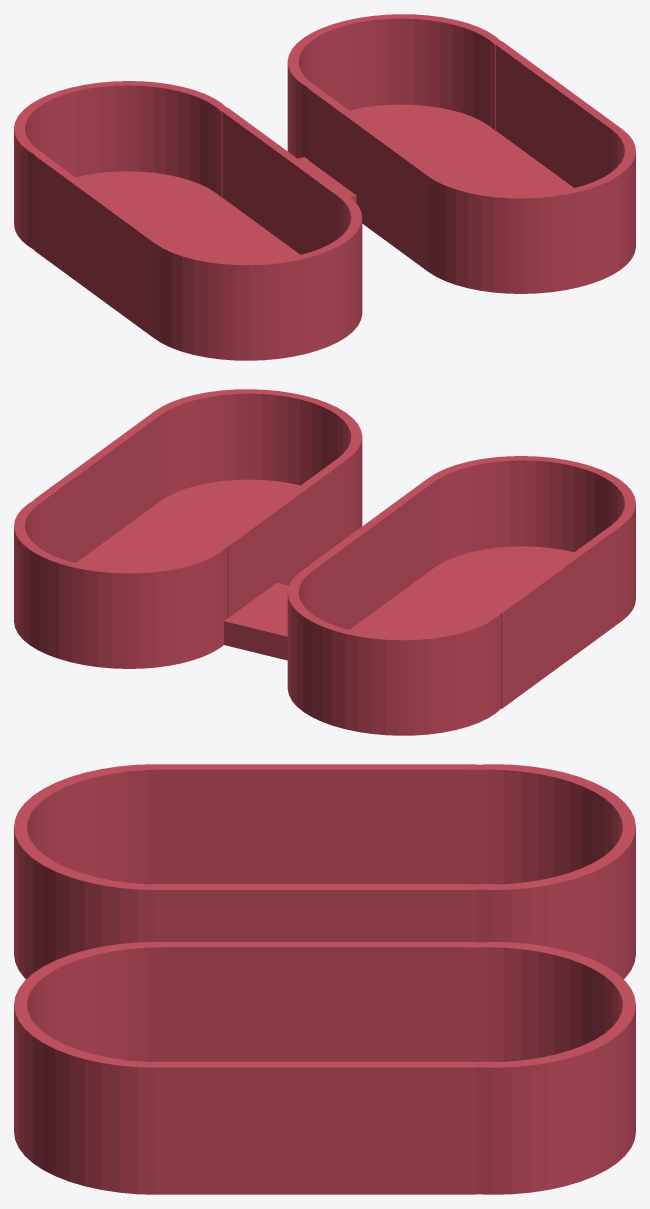
The model's file is ford-e450-switch-cover-double-side-by-side.glb.
3 renders of one model, top to bottom at view 1: azimuth 30°, elevation 25°; view 2: azimuth 150°, elevation 25°; view 3: azimuth 270°, elevation 25°, orthographic. The views are drawn at different scales.
Visible parts, largest first — view 1: Mesh_Mesh_head_geo.001_lambert2SG.001; view 2: Mesh_Mesh_head_geo.001_lambert2SG.001; view 3: Mesh_Mesh_head_geo.001_lambert2SG.001.
Part boxes in pixels (left/top/right/bottom): Mesh_Mesh_head_geo.001_lambert2SG.001: left=14, top=14, right=635, bottom=360; Mesh_Mesh_head_geo.001_lambert2SG.001: left=14, top=389, right=635, bottom=735; Mesh_Mesh_head_geo.001_lambert2SG.001: left=14, top=764, right=635, bottom=1194.
Size of the model in its own units: 0.041 by 0.008 by 0.0355.
